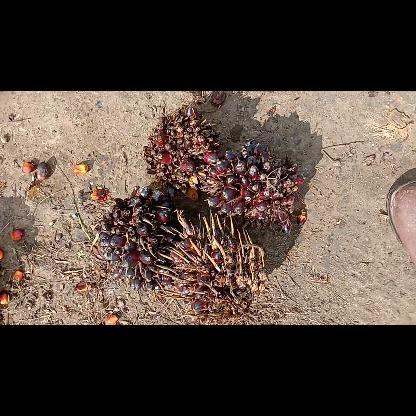TBS abnormal: (159, 209, 263, 319), (201, 140, 303, 234), (100, 186, 172, 289), (142, 107, 218, 195)
